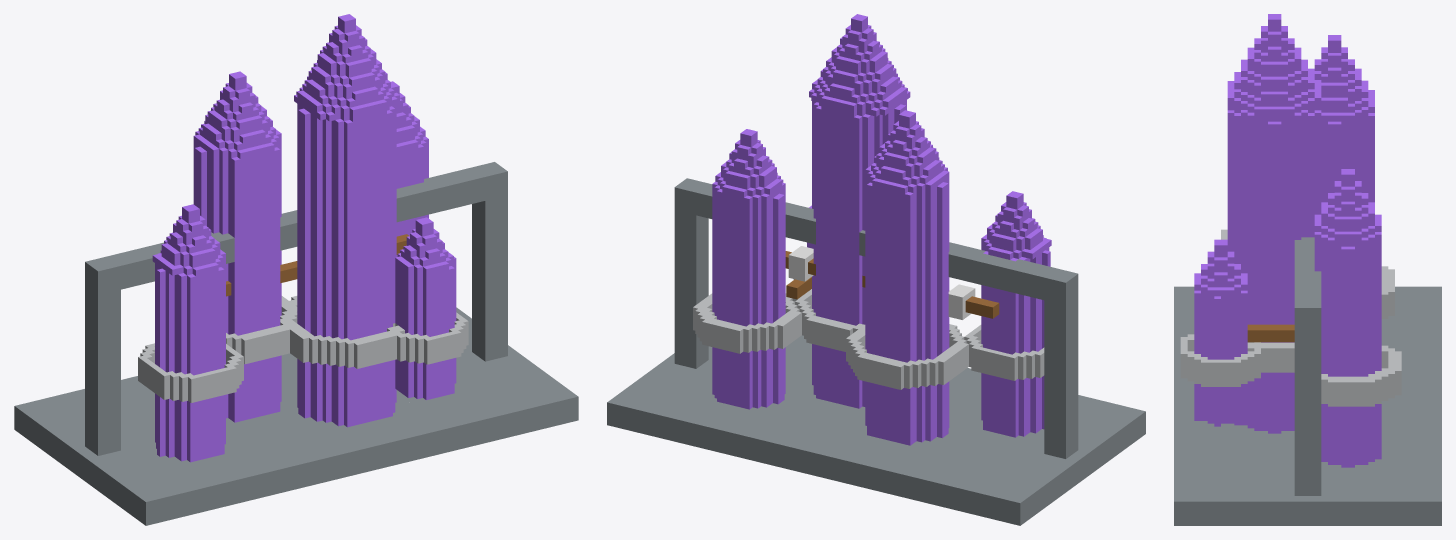
The model's file is matrix_channeling_tool.glb.
3 views of the same model, side by side, from view 1: azimuth 30°, elevation 25°; view 2: azimuth 150°, elevation 25°; view 3: azimuth 270°, elevation 25° (orthographic). The views are drawn at different scales.
Visible parts, largest first — view 1: matrix_channeling_tool:compound; view 2: matrix_channeling_tool:compound; view 3: matrix_channeling_tool:compound.
Part boxes in pixels (x1,y1,x2,y2): matrix_channeling_tool:compound: (14, 14, 578, 525); matrix_channeling_tool:compound: (607, 14, 1145, 525); matrix_channeling_tool:compound: (1174, 14, 1441, 525).
Bounding box in the file's own units: 0.152 × 0.138 × 0.08.
